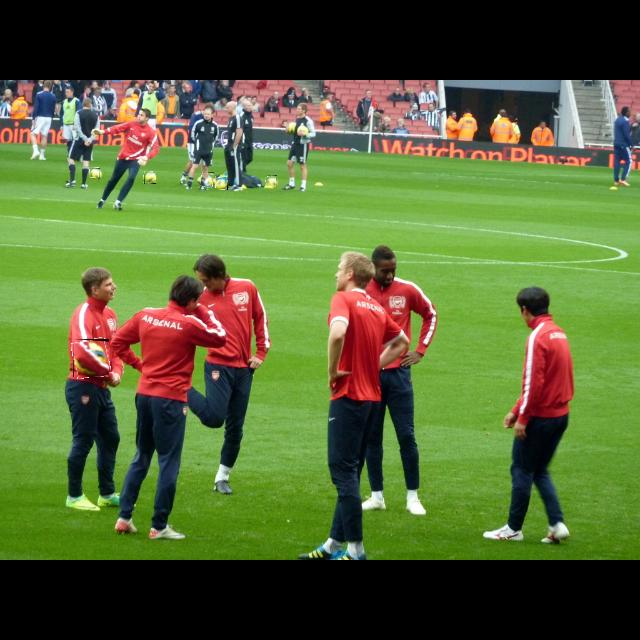Football: (73, 339, 109, 377), (200, 172, 214, 188), (144, 172, 156, 184), (216, 178, 228, 190), (265, 175, 277, 187), (90, 168, 100, 178)
